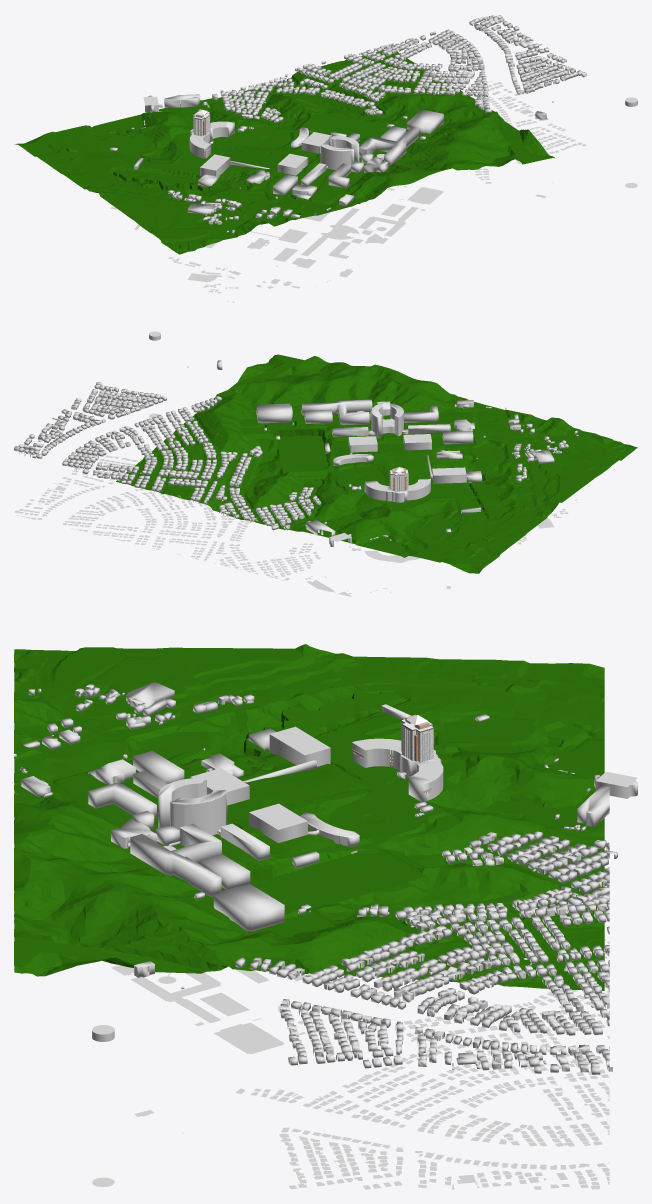
The model's file is gakkou_zahyou04-軽量化.glb.
3 renders of one model, top to bottom at view 1: azimuth 30°, elevation 25°; view 2: azimuth 150°, elevation 25°; view 3: azimuth 270°, elevation 25°, orthographic. The views are drawn at different scales.
Parts seen in each view (by area): view 1: dem, CityGML.001, CityGML, Circle.013; view 2: dem, CityGML.001, CityGML, Circle.013; view 3: dem, CityGML.001, CityGML, Circle.013.
Boxes of the visible parts, x1=… form: dem: x1=14, y1=49, x2=554, y2=254; CityGML.001: x1=110, y1=15, x2=586, y2=266; CityGML: x1=187, y1=97, x2=637, y2=302; Circle.013: x1=193, y1=109, x2=210, y2=157; dem: x1=116, y1=354, x2=637, y2=573; CityGML.001: x1=14, y1=366, x2=526, y2=596; CityGML: x1=149, y1=331, x2=578, y2=528; Circle.013: x1=364, y1=467, x2=408, y2=500; dem: x1=14, y1=644, x2=604, y2=990; CityGML.001: x1=130, y1=694, x2=637, y2=1189; CityGML: x1=14, y1=682, x2=206, y2=1187; Circle.013: x1=352, y1=714, x2=441, y2=794.
Bounding box in the file's own units: 127 × 23.69 × 79.02.
